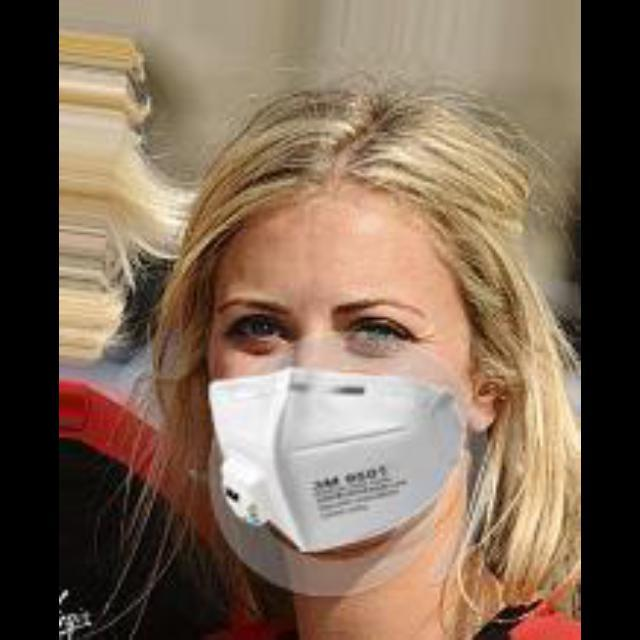suspicion: (134, 90, 536, 590)
